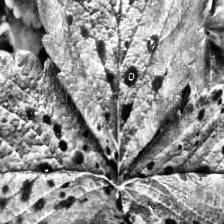Leaf Spot: (34, 0, 214, 182), (0, 48, 134, 224), (117, 83, 224, 224), (163, 26, 224, 124)
